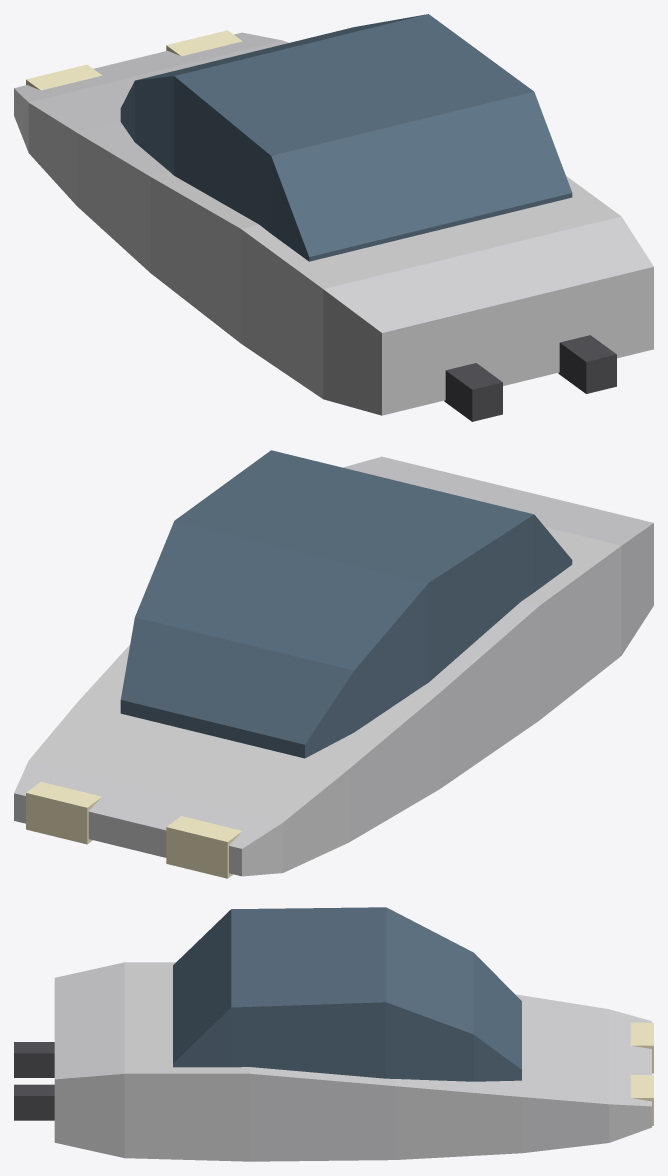
File: B_Bubble_Body.fbx
3 views of the same model, one above another, from view 1: azimuth 30°, elevation 25°; view 2: azimuth 150°, elevation 25°; view 3: azimuth 270°, elevation 25° (orthographic). The views are drawn at different scales.
Visible parts, largest first — view 1: B_Bubble_Body, B_Bubble_Canopy, B_Bubble_Exhaust_L, B_Bubble_Exhaust_R, B_Bubble_Light_R, B_Bubble_Light_L; view 2: B_Bubble_Canopy, B_Bubble_Body, B_Bubble_Light_L, B_Bubble_Light_R; view 3: B_Bubble_Body, B_Bubble_Canopy, B_Bubble_Exhaust_R, B_Bubble_Exhaust_L, B_Bubble_Light_L, B_Bubble_Light_R.
Boxes of the visible parts, <box> form: B_Bubble_Body: <box>14,32,653,415</box>; B_Bubble_Canopy: <box>120,14,572,261</box>; B_Bubble_Exhaust_L: <box>444,363,502,421</box>; B_Bubble_Exhaust_R: <box>558,335,616,393</box>; B_Bubble_Light_R: <box>166,30,242,56</box>; B_Bubble_Light_L: <box>26,64,101,90</box>; B_Bubble_Canopy: <box>120,450,572,758</box>; B_Bubble_Body: <box>14,456,653,876</box>; B_Bubble_Light_L: <box>166,816,242,878</box>; B_Bubble_Light_R: <box>26,781,101,844</box>; B_Bubble_Body: <box>54,962,651,1161</box>; B_Bubble_Canopy: <box>173,907,521,1081</box>; B_Bubble_Exhaust_R: <box>14,1084,54,1120</box>; B_Bubble_Exhaust_L: <box>14,1042,54,1077</box>; B_Bubble_Light_L: <box>630,1022,653,1073</box>; B_Bubble_Light_R: <box>630,1075,653,1125</box>.
Bounding box in the file's own units: 136 × 86 × 330.
